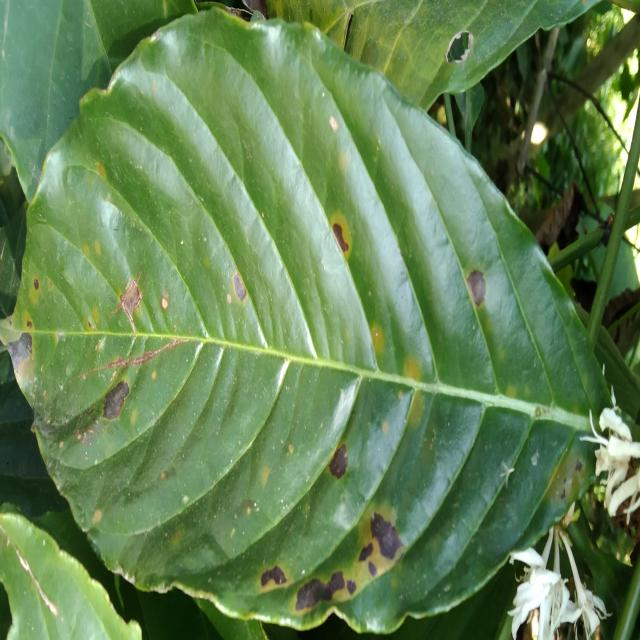Enfermedad-Mancha-de-hierro: (10, 7, 640, 640)
